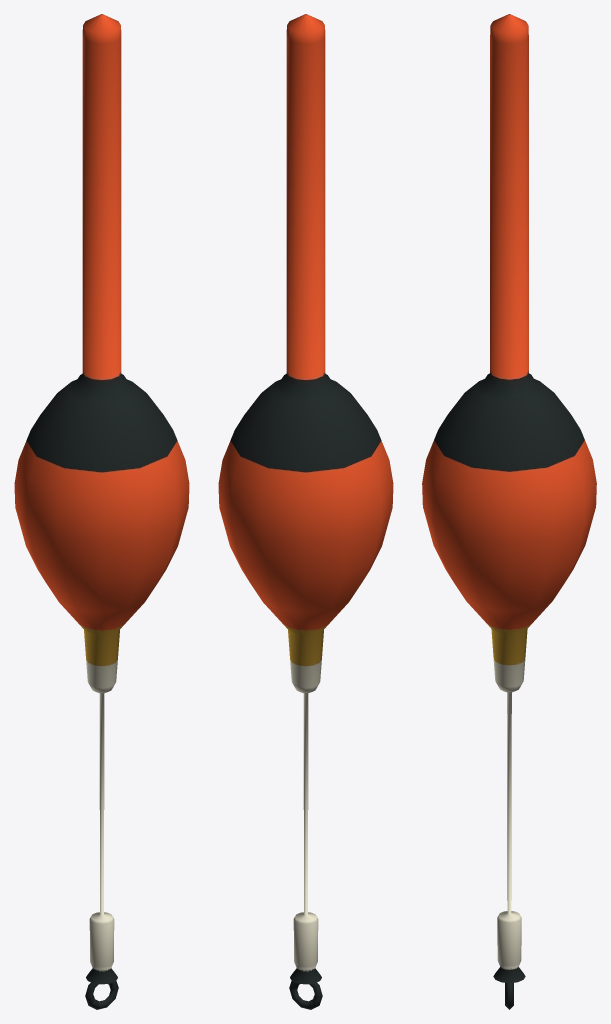
3 renders of one model, left to right at view 1: azimuth 30°, elevation 25°; view 2: azimuth 150°, elevation 25°; view 3: azimuth 270°, elevation 25°, orthographic.
Visible parts, largest first — view 1: F22_Float; view 2: F22_Float; view 3: F22_Float.
Boxes of the visible parts, box(x1,y1,x2,y2) form: F22_Float: box(14, 14, 189, 1009); F22_Float: box(218, 14, 393, 1009); F22_Float: box(422, 14, 596, 1009).
Bounding box in the file's own units: 0.0319 × 0.2 × 0.0319.
1 material, 1 textured.
